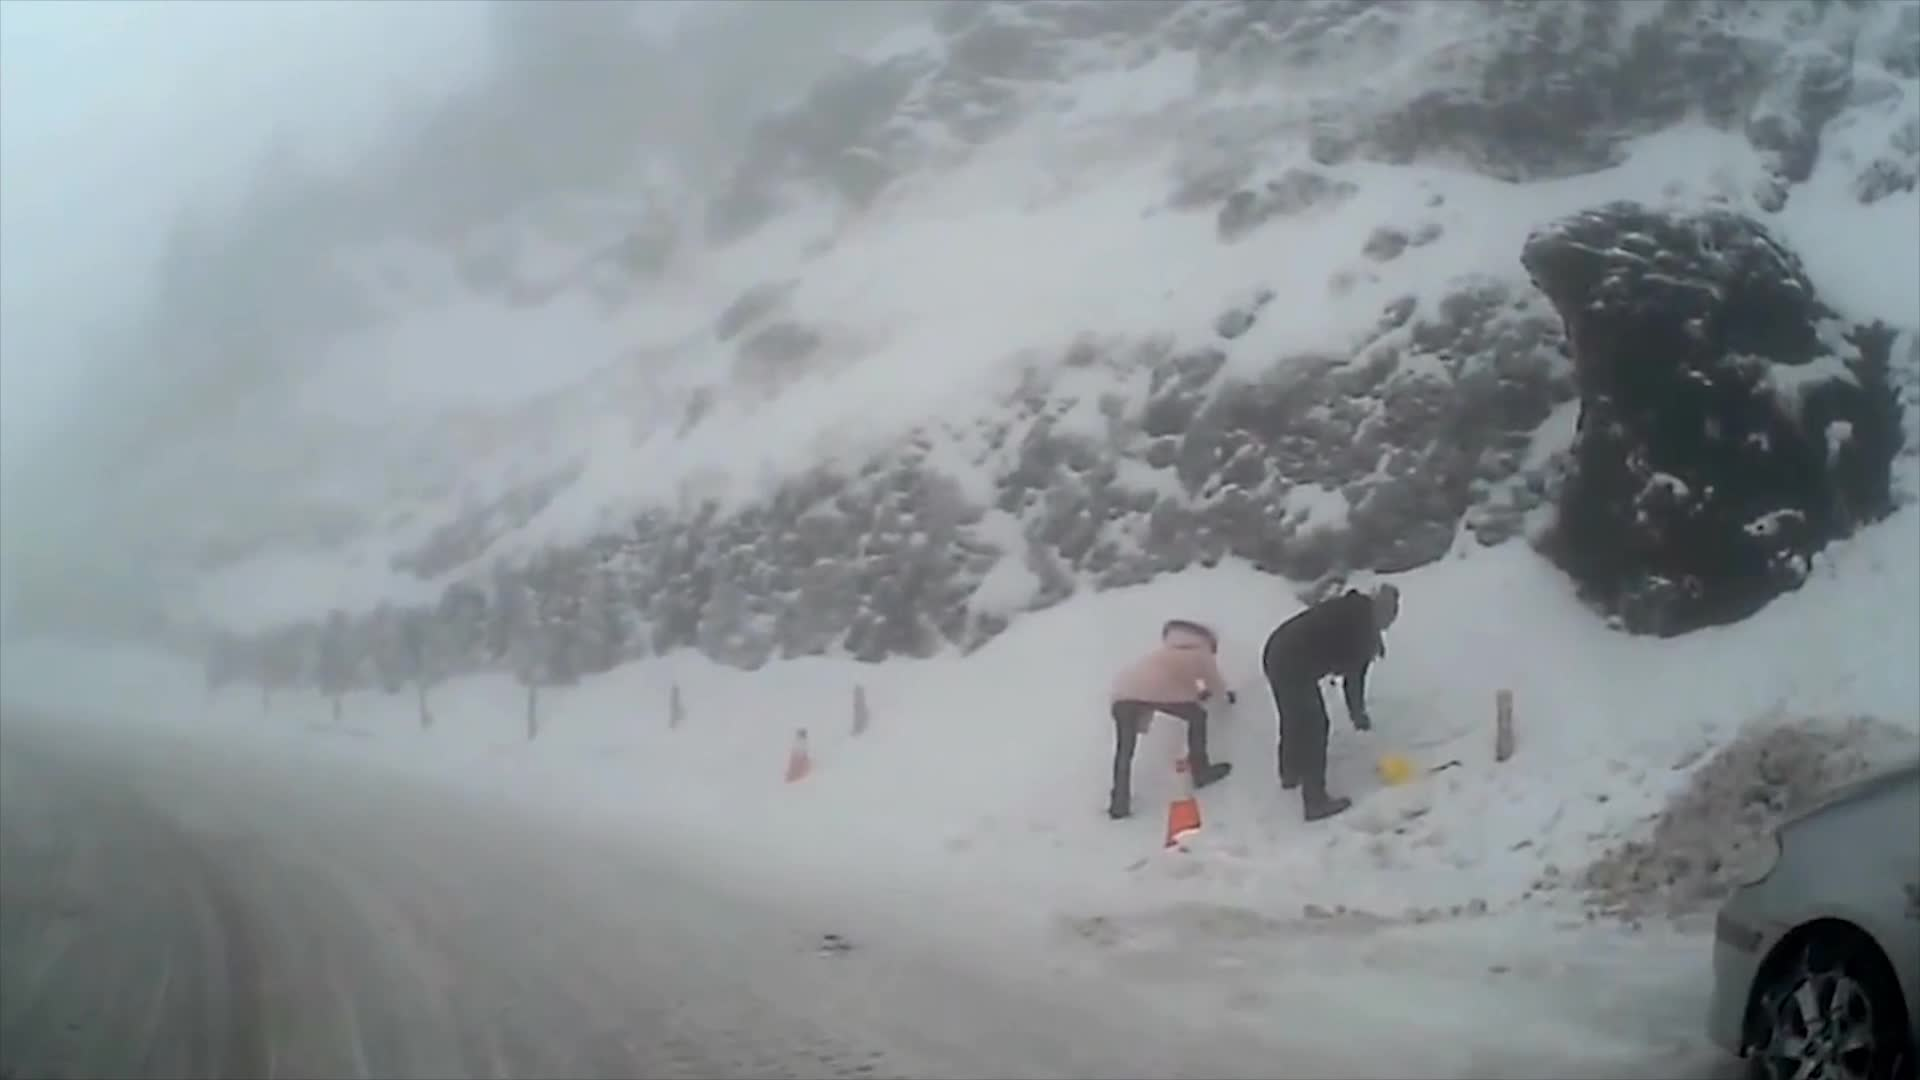pedestrian: (1262, 584, 1402, 819), (1105, 610, 1244, 821)
vehicle: (1703, 754, 1920, 1079)
